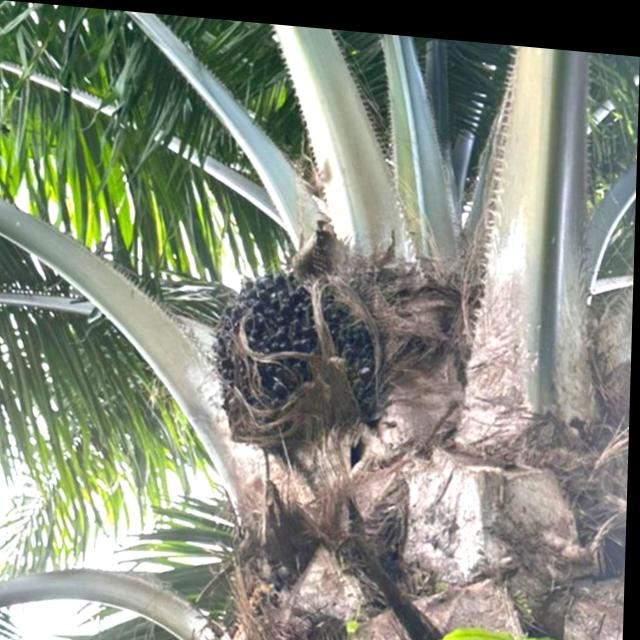unripe: (209, 248, 397, 451)
